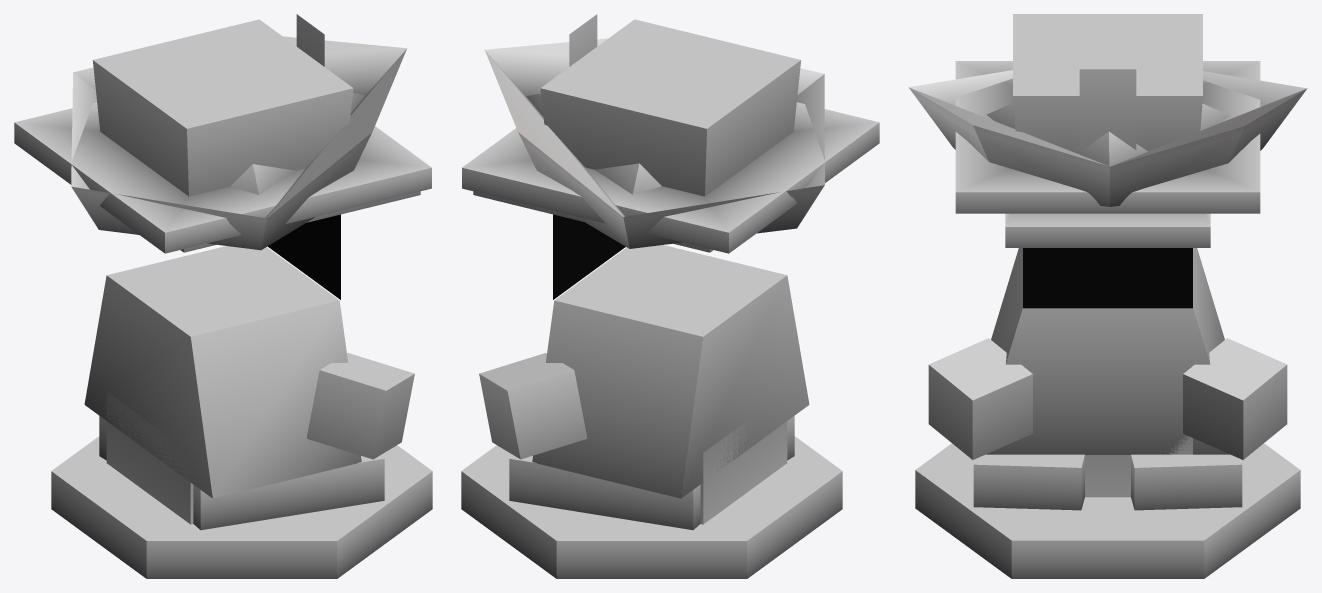
File: Troop.fbx
3 renders of one model, left to right at view 1: azimuth 30°, elevation 25°; view 2: azimuth 150°, elevation 25°; view 3: azimuth 270°, elevation 25°, orthographic.
Parts seen in each view (by area): view 1: Base, Colonial Hat, Farmers Hat, Admiral Hat, Hand R, Head, Face; view 2: Base, Colonial Hat, Farmers Hat, Admiral Hat, Hand L, Head, Face; view 3: Base, Colonial Hat, Admiral Hat, Farmers Hat, Face, Hand L, Hand R, Head.
Part boxes in pixels (left/top/right/bottom): Base: left=51, top=246, right=432, bottom=578; Colonial Hat: left=92, top=14, right=420, bottom=252; Farmers Hat: left=14, top=102, right=431, bottom=253; Admiral Hat: left=71, top=36, right=406, bottom=250; Hand R: left=307, top=353, right=414, bottom=459; Head: left=106, top=392, right=193, bottom=524; Face: left=268, top=214, right=340, bottom=299; Base: left=461, top=245, right=842, bottom=578; Colonial Hat: left=473, top=14, right=801, bottom=252; Farmers Hat: left=462, top=102, right=879, bottom=253; Admiral Hat: left=485, top=38, right=824, bottom=248; Hand L: left=479, top=353, right=586, bottom=459; Head: left=700, top=418, right=787, bottom=524; Face: left=553, top=214, right=625, bottom=299; Base: left=915, top=248, right=1300, bottom=578; Colonial Hat: left=1005, top=14, right=1210, bottom=247; Admiral Hat: left=909, top=70, right=1307, bottom=206; Farmers Hat: left=955, top=61, right=1260, bottom=213; Face: left=1023, top=248, right=1192, bottom=308; Hand L: left=1183, top=338, right=1287, bottom=459; Hand R: left=928, top=338, right=1032, bottom=459; Head: left=1085, top=426, right=1192, bottom=497.
Size of the model in its own units: 297 by 404 by 301.
